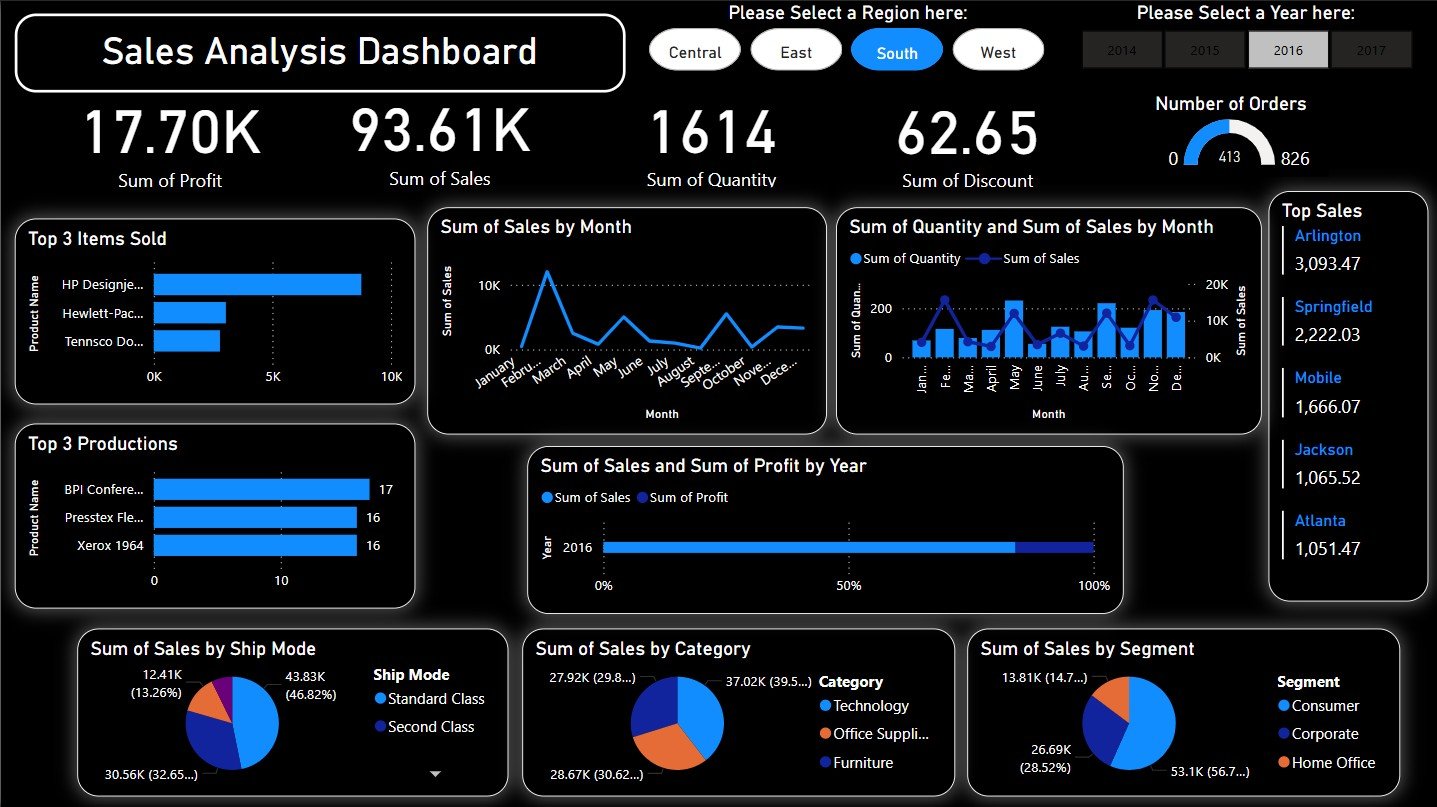

Layout of this report page (visuals, bound fields, positions):
{"tool":"powerbi","page":{"name":"Page 1","canvas":[1280,720],"ordinal":0},"visuals":[{"type":"card","fields":{"Values":["Sum(sample_-_superstore xls - Orders.Profit)"]},"box":[42.3,70.1,217.1,101.3],"z":0},{"type":"card","fields":{"Values":["Sum(sample_-_superstore xls - Orders.Sales)"]},"box":[273.6,67.5,234.4,101.8],"z":1000},{"type":"card","fields":{"Values":["Sum(sample_-_superstore xls - Orders.Discount)"]},"box":[763.2,69.9,195.1,101.8],"z":2000},{"type":"card","fields":{"Values":["Sum(sample_-_superstore xls - Orders.Quantity)"]},"box":[531.3,68.7,203.7,101.8],"z":3000},{"type":"advancedSlicerVisual","title":"Please Select a Region here: ","fields":{"Values":["sample_-_superstore xls - Orders.Region"]},"box":[572.2,0,363.6,67.2],"z":4000},{"type":"slicer","title":"Please Select a Year here: ","fields":{"Values":["sample_-_superstore xls - Orders.Order Date.Variation.Date Hierarchy.Year"]},"box":[935.9,0,344.4,67.2],"z":5000},{"type":"multiRowCard","title":"Top Sales","fields":{"Values":["Sum(sample_-_superstore xls - Orders.Profit)","sample_-_superstore xls - Orders.City"]},"box":[1128.8,169.3,142.3,365.6],"z":6000},{"type":"lineChart","fields":{"Category":["sample_-_superstore xls - Orders.Order Date.Variation.Date Hierarchy.Month"],"Y":["Sum(sample_-_superstore xls - Orders.Sales)"]},"box":[379.1,184.1,355.8,202.5],"z":7000},{"type":"pieChart","fields":{"Y":["Sum(sample_-_superstore xls - Orders.Sales)"],"Category":["sample_-_superstore xls - Orders.Ship Mode"]},"box":[67.5,558.3,384.1,149.7],"z":8000},{"type":"pieChart","fields":{"Y":["Sum(sample_-_superstore xls - Orders.Sales)"],"Category":["sample_-_superstore xls - Orders.Segment"]},"box":[860.1,558.3,385.3,149.7],"z":9000},{"type":"pieChart","fields":{"Y":["Sum(sample_-_superstore xls - Orders.Sales)"],"Category":["sample_-_superstore xls - Orders.Category"]},"box":[463.8,558.3,385.3,149.7],"z":10000},{"type":"gauge","title":"Number of Orders","fields":{"Y":["CountNonNull(sample_-_superstore xls - Orders.Postal Code)"]},"box":[1023.3,81,159.5,74.8],"z":11000},{"type":"lineStackedColumnComboChart","fields":{"Category":["sample_-_superstore xls - Orders.Order Date.Variation.Date Hierarchy.Month"],"Y":["Sum(sample_-_superstore xls - Orders.Quantity)"],"Y2":["Sum(sample_-_superstore xls - Orders.Sales)"]},"box":[743.6,184.1,379.1,202.5],"z":12000},{"type":"barChart","title":"Top 3 Items Sold","fields":{"Category":["sample_-_superstore xls - Orders.Product Name"],"Y":["Sum(sample_-_superstore xls - Orders.Sales)"]},"box":[12.3,193.9,357.1,165.6],"z":13000},{"type":"barChart","title":"Top 3 Productions","fields":{"Category":["sample_-_superstore xls - Orders.Product Name"],"Y":["Sum(sample_-_superstore xls - Orders.Quantity)"]},"box":[12.3,376.7,357.1,165],"z":14000},{"type":"hundredPercentStackedBarChart","fields":{"Category":["sample_-_superstore xls - Orders.Order Date.Variation.Date Hierarchy.Year","sample_-_superstore xls - Orders.Order Date.Variation.Date Hierarchy.Quarter"],"Y":["Sum(sample_-_superstore xls - Orders.Sales)","Sum(sample_-_superstore xls - Orders.Profit)"]},"box":[468.7,396.3,531.3,149.7],"z":15000},{"type":"textbox","box":[12.2,11.1,544.3,70.1],"z":15001}]}

Visuals, with their boxes in screenshot pixels (x1, y1, x2, y2), scaled from the page's 1280x720 canvas onto the 1437x807 screenshot:
card - Sum(sample_-_superstore xls - Orders.Profit): (left=47, top=79, right=291, bottom=192)
card - Sum(sample_-_superstore xls - Orders.Sales): (left=307, top=76, right=570, bottom=190)
card - Sum(sample_-_superstore xls - Orders.Discount): (left=857, top=78, right=1076, bottom=192)
card - Sum(sample_-_superstore xls - Orders.Quantity): (left=596, top=77, right=825, bottom=191)
"Please Select a Region here: " advancedSlicerVisual: (left=642, top=0, right=1051, bottom=75)
"Please Select a Year here: " slicer: (left=1051, top=0, right=1436, bottom=75)
"Top Sales" multiRowCard: (left=1267, top=190, right=1427, bottom=600)
lineChart - sample_-_superstore xls - Orders.Order Date.Variation.Date Hierarchy.Month x Sum(sample_-_superstore xls - Orders.Sales): (left=426, top=206, right=825, bottom=433)
pieChart - Sum(sample_-_superstore xls - Orders.Sales) x sample_-_superstore xls - Orders.Ship Mode: (left=76, top=626, right=507, bottom=794)
pieChart - Sum(sample_-_superstore xls - Orders.Sales) x sample_-_superstore xls - Orders.Segment: (left=966, top=626, right=1398, bottom=794)
pieChart - Sum(sample_-_superstore xls - Orders.Sales) x sample_-_superstore xls - Orders.Category: (left=521, top=626, right=953, bottom=794)
"Number of Orders" gauge: (left=1149, top=91, right=1328, bottom=175)
lineStackedColumnComboChart - sample_-_superstore xls - Orders.Order Date.Variation.Date Hierarchy.Month x Sum(sample_-_superstore xls - Orders.Quantity): (left=835, top=206, right=1260, bottom=433)
"Top 3 Items Sold" barChart: (left=14, top=217, right=415, bottom=403)
"Top 3 Productions" barChart: (left=14, top=422, right=415, bottom=607)
hundredPercentStackedBarChart - sample_-_superstore xls - Orders.Order Date.Variation.Date Hierarchy.Year x sample_-_superstore xls - Orders.Order Date.Variation.Date Hierarchy.Quarter: (left=526, top=444, right=1123, bottom=612)
textbox: (left=14, top=12, right=625, bottom=91)
